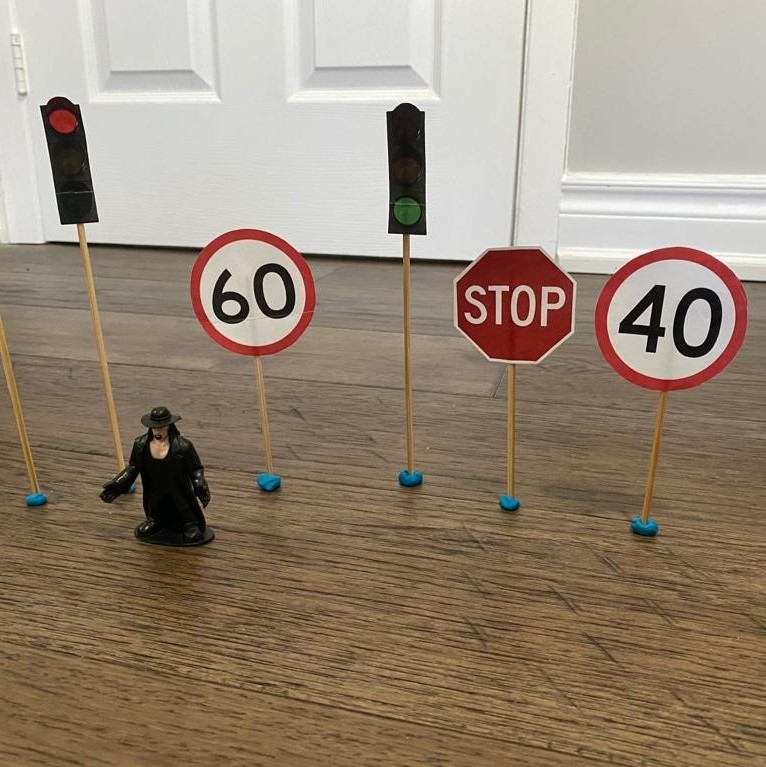Person: (95, 403, 226, 555)
Red Traffic Light: (35, 93, 106, 229)
Speed Limit 40: (593, 244, 752, 392)
Speed Limit 60: (187, 223, 320, 358)
Stop Sign: (446, 240, 579, 375)
